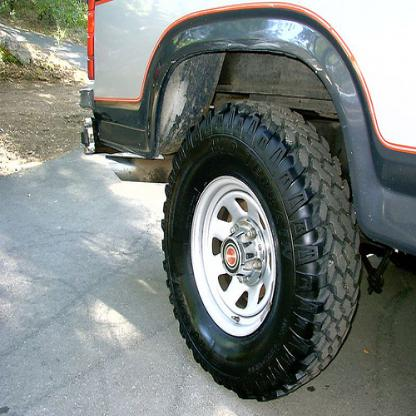car: (79, 0, 415, 402)
